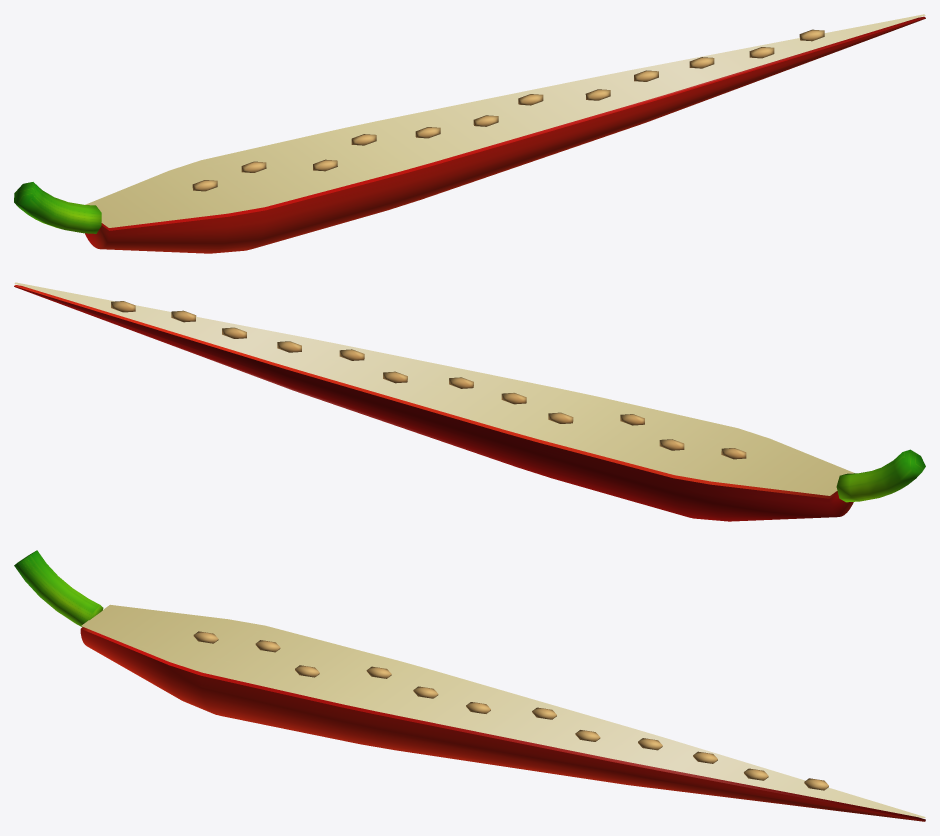
The model's file is NP_ChiliPepper_CutHalf_LOD1.fbx.
The picture shows the model from 3 angles, top to bottom: view 1: azimuth 30°, elevation 25°; view 2: azimuth 150°, elevation 25°; view 3: azimuth 330°, elevation 25°; orthographic projection.
Parts seen in each view (by area): view 1: NP_ChiliPepper_CutHalf.001; view 2: NP_ChiliPepper_CutHalf.001; view 3: NP_ChiliPepper_CutHalf.001.
Part boxes in pixels (bbox=[...]): NP_ChiliPepper_CutHalf.001: bbox=[14, 14, 925, 253]; NP_ChiliPepper_CutHalf.001: bbox=[14, 282, 925, 521]; NP_ChiliPepper_CutHalf.001: bbox=[14, 550, 925, 821].
Bounding box in the file's own units: 39.42 × 4.61 × 4.96.
